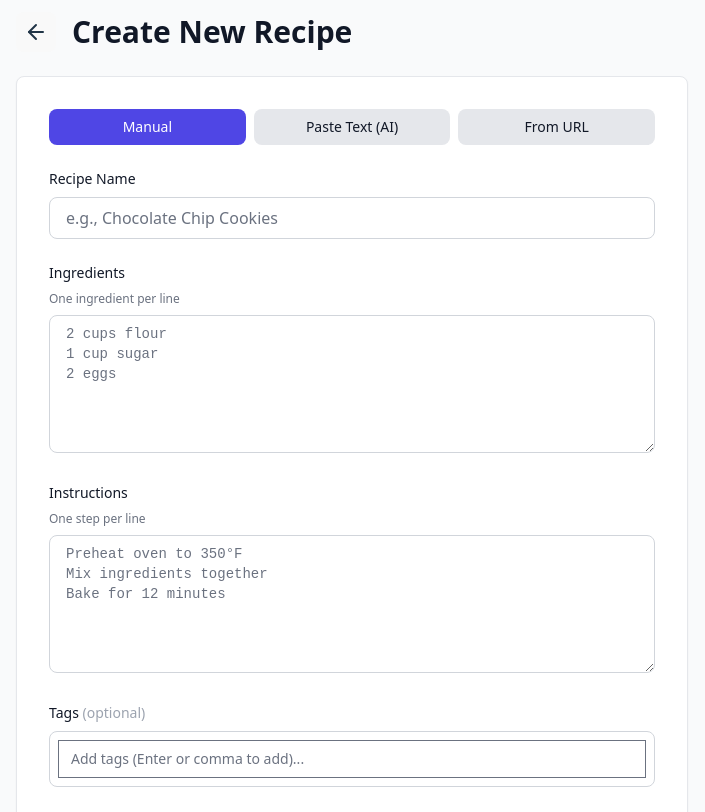
Test: AddRecipeForm › switches to AI mode when the Paste Text button is clicked
Click the button "Paste Text (AI)" at coordinates (352, 127), box [254,109,450,145]
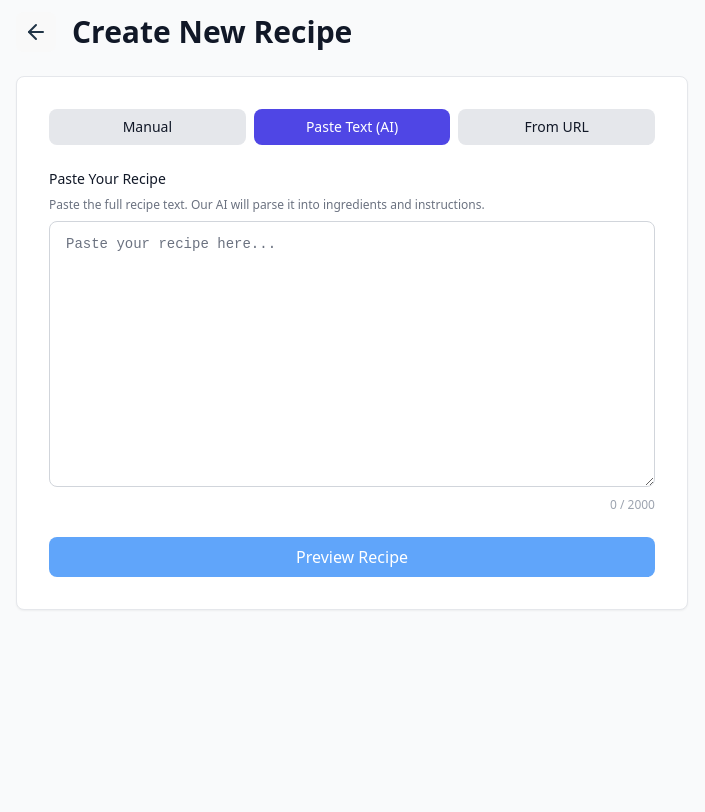
Expected: the text box labelled "Paste Your Recipe" is shown, [49,221,655,487]
